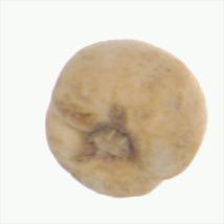L4: (45, 38, 207, 198)
